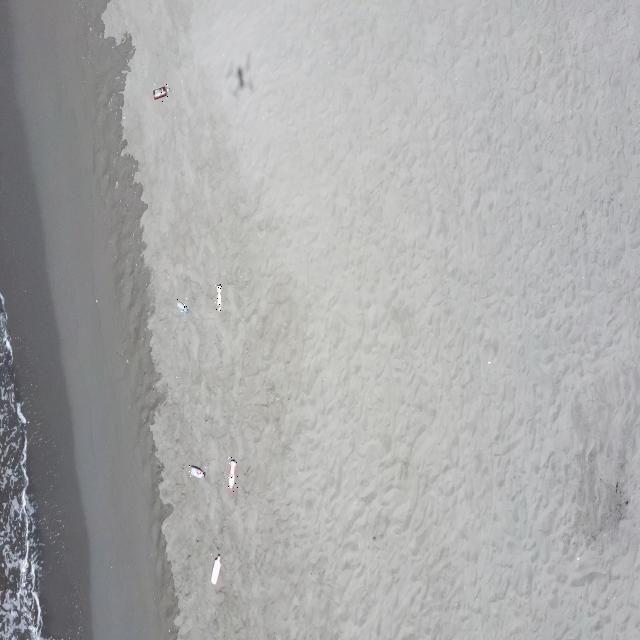Garbage: (227, 456, 236, 489), (211, 553, 220, 584), (152, 84, 167, 99), (188, 464, 203, 476), (178, 299, 187, 312), (216, 283, 220, 311)
